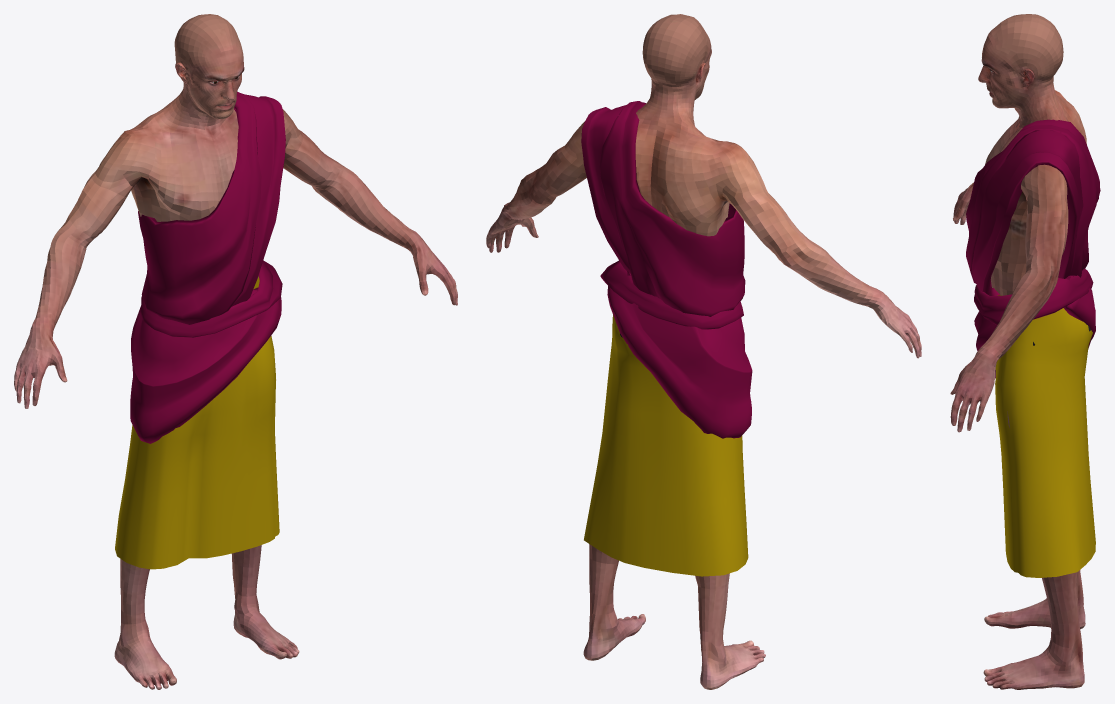
The model's file is Buddhist.glb.
3 views of the same model, side by side, from view 1: azimuth 30°, elevation 25°; view 2: azimuth 150°, elevation 25°; view 3: azimuth 270°, elevation 25° (orthographic).
Parts seen in each view (by area): view 1: body, red_unifrom, yellow_unifrom; view 2: body, red_unifrom, yellow_unifrom; view 3: body, yellow_unifrom, red_unifrom.
Boxes of the visible parts, x1,y1,x2,y2 form: body: (14,14,457,689); red_unifrom: (130,91,285,443); yellow_unifrom: (115,276,279,569); body: (486,14,921,689); red_unifrom: (581,101,752,438); yellow_unifrom: (584,315,748,576); body: (950,14,1090,689); yellow_unifrom: (995,295,1095,577); red_unifrom: (966,119,1100,377).
Bounding box in the file's own units: 0.3221 × 0.4549 × 0.0968.
4 materials, 2 textured.
